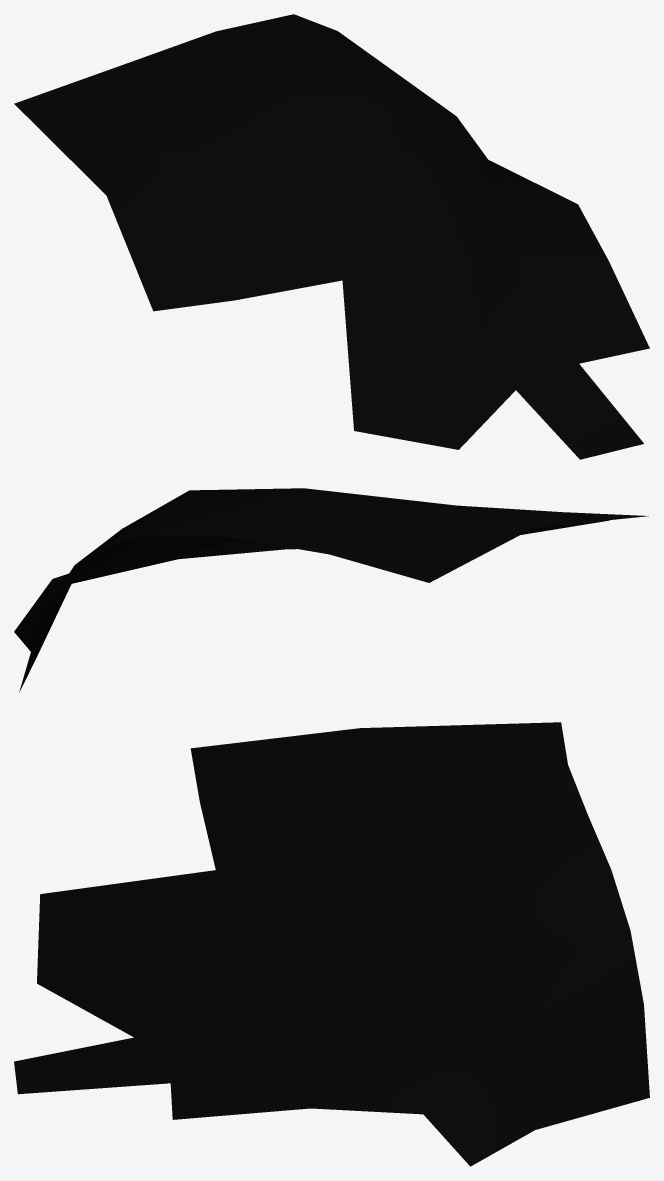
The model's file is HTOWN01_TREESHADOWS02.fbx.
3 views of the same model, one above another, from view 1: azimuth 30°, elevation 25°; view 2: azimuth 150°, elevation 25°; view 3: azimuth 270°, elevation 25° (orthographic). The views are drawn at different scales.
Parts seen in each view (by area): view 1: HTOWN01_TREESHADOWS02; view 2: HTOWN01_TREESHADOWS02; view 3: HTOWN01_TREESHADOWS02.
Part boxes in pixels (<box>): HTOWN01_TREESHADOWS02: <box>14,14,649,459</box>; HTOWN01_TREESHADOWS02: <box>14,488,648,692</box>; HTOWN01_TREESHADOWS02: <box>14,722,649,1166</box>.
Size of the model in its own units: 184123 by 70907 by 187168.
Materials: 1 (1 with a texture image).
